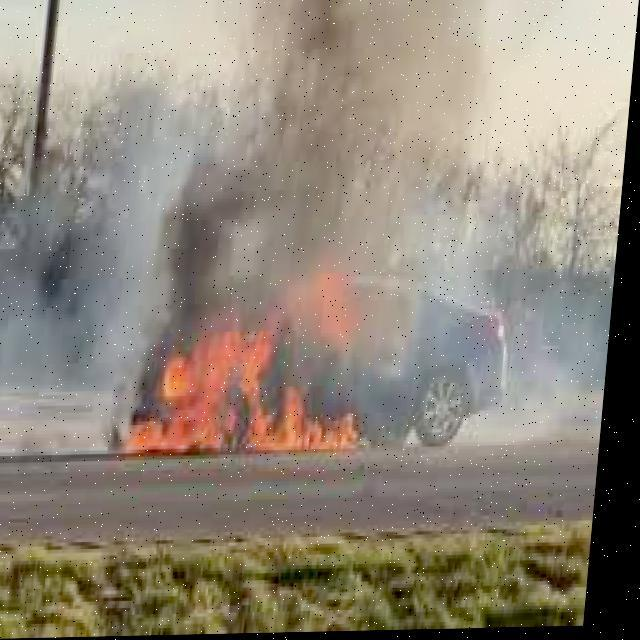Fire: (112, 320, 388, 468), (275, 271, 394, 361)
